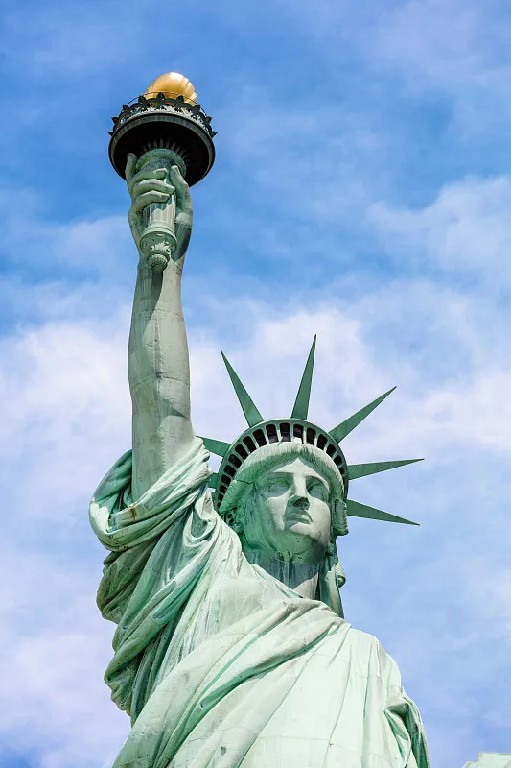SL: (88, 73, 511, 768)
